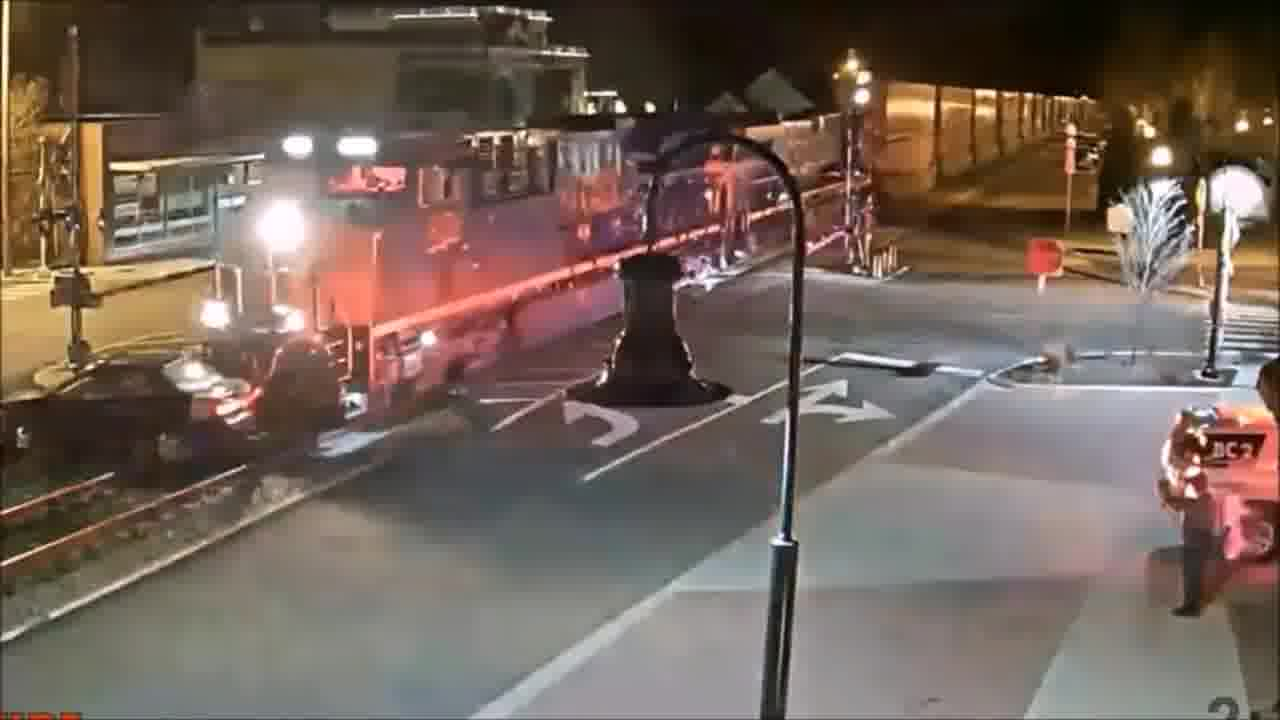crossing railway track: (5, 333, 286, 489)
